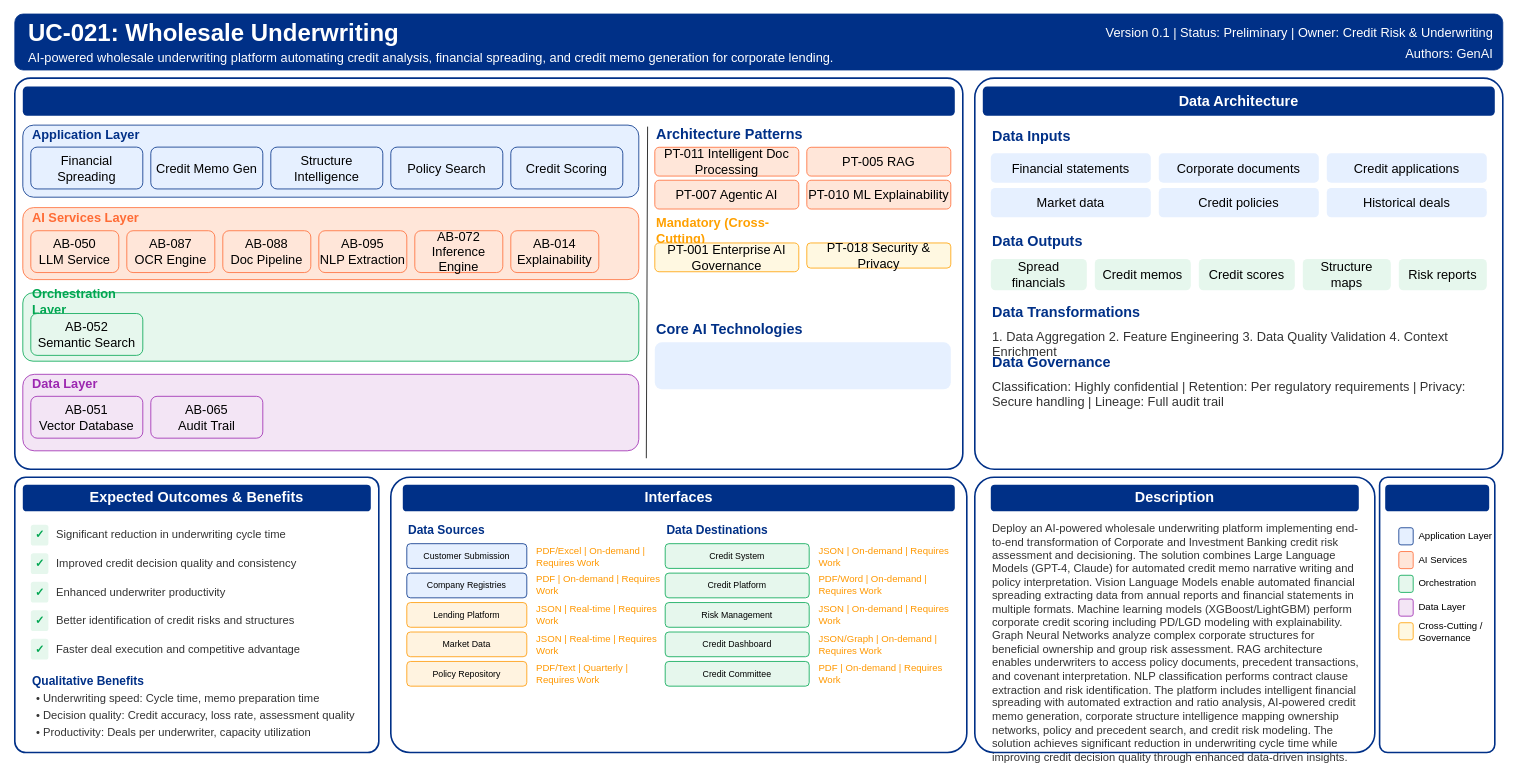
Image size: 1518x776. Some labels were removed from this diagram. The shapes that lost their labels are listed below. From the top down, each one's centre as x and y in pixels, then its label:
At point (488, 100): "Solution".
At point (802, 365): "GPT-4/Claude | VLM | XGBoost/LightGBM | Graph Neural Networks".
At point (1437, 497): "Legend".
